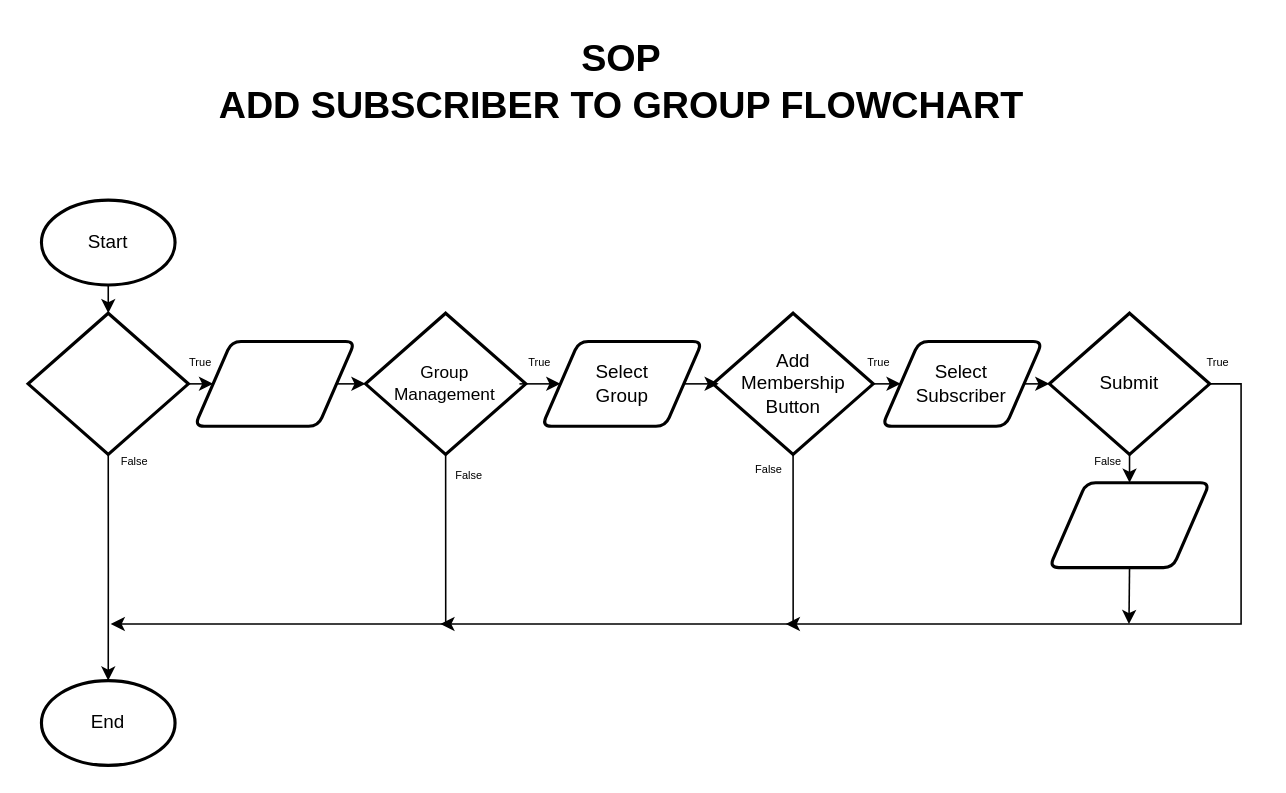
Image size: 1286x793. Some labels were removed from this diagram. Here are the shapes that lost their labels. From the top down, the box of each, then its label:
(26, 311, 189, 455): Tab Subscriber Management
(192, 339, 356, 427): List Management
(1047, 480, 1210, 568): Success
